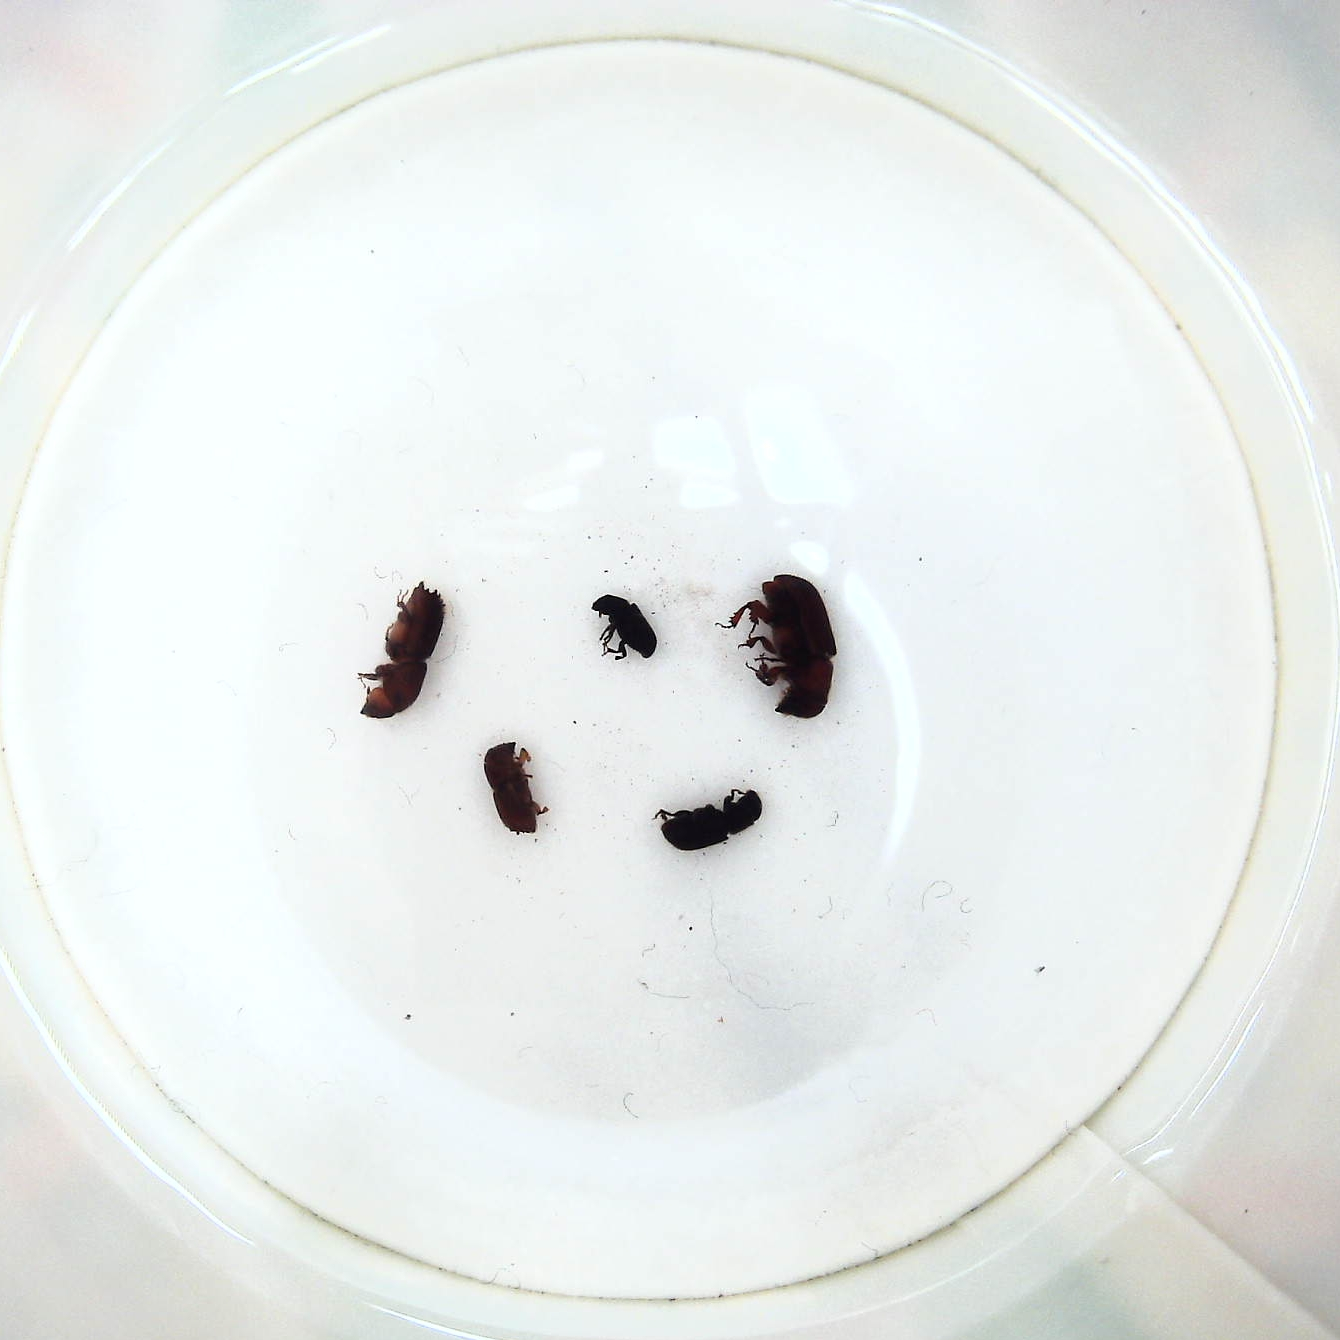Boerner: (360, 583, 450, 722)
Leconte: (723, 573, 841, 726)
armandi: (648, 787, 767, 858)
coleoptera: (589, 587, 660, 668)
linnaeus: (482, 739, 550, 839)
